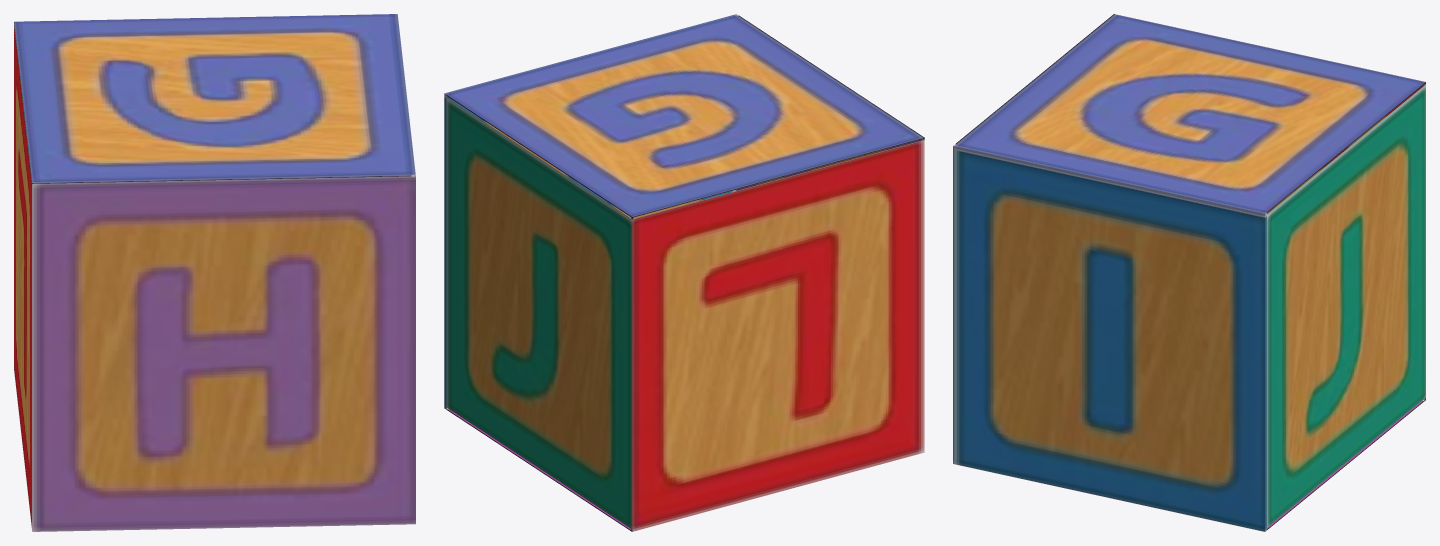
The model's file is cubo1.fbx.
3 views of the same model, side by side, from view 1: azimuth 30°, elevation 25°; view 2: azimuth 150°, elevation 25°; view 3: azimuth 270°, elevation 25° (orthographic). The views are drawn at different scales.
Visible parts, largest first — view 1: Cube.002; view 2: Cube.002; view 3: Cube.002.
Part boxes in pixels (left/top/right/bottom): Cube.002: left=14, top=14, right=415, bottom=531; Cube.002: left=444, top=14, right=924, bottom=531; Cube.002: left=953, top=14, right=1425, bottom=531.
Bounding box in the file's own units: 124 × 92.16 × 124.
1 material, 1 textured.
